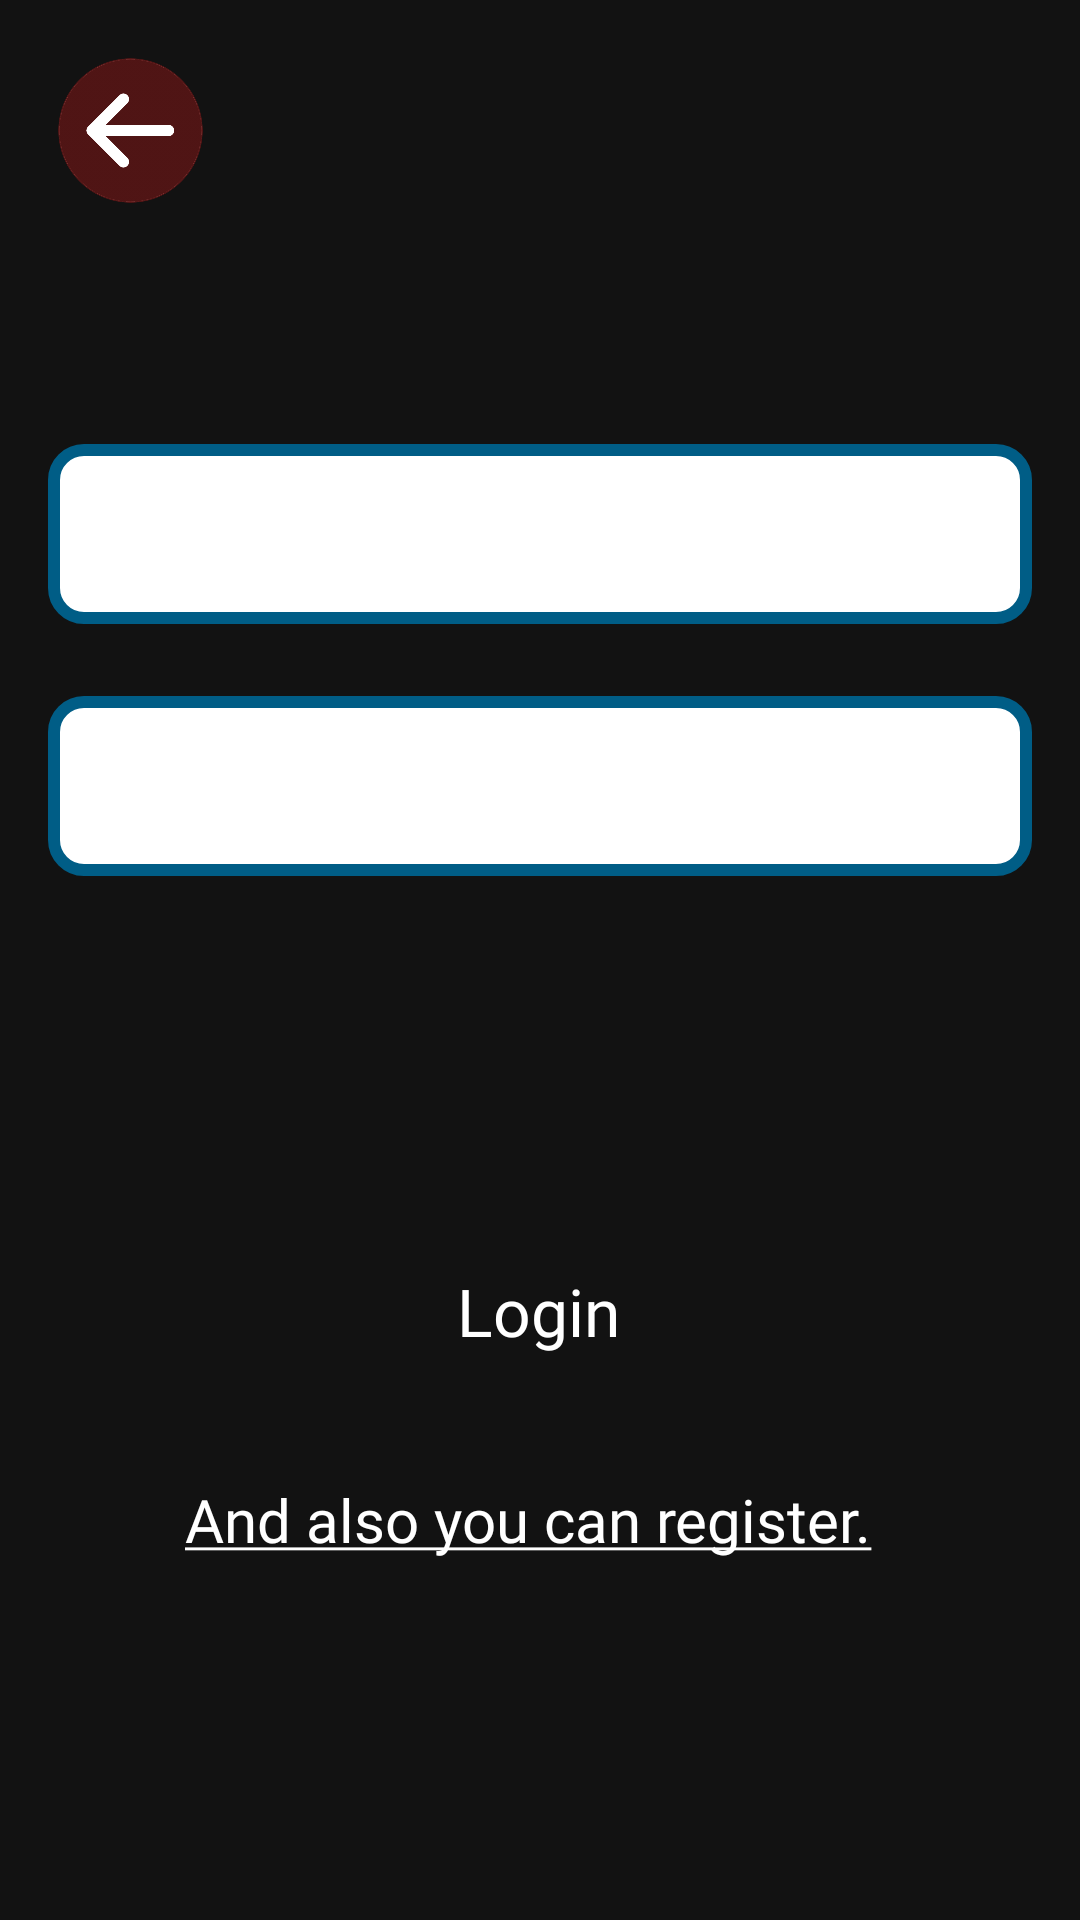

Screen size 1080px x 1920px. Icon name, then its center in pixels as point (x, y):
back: point (130, 130)
